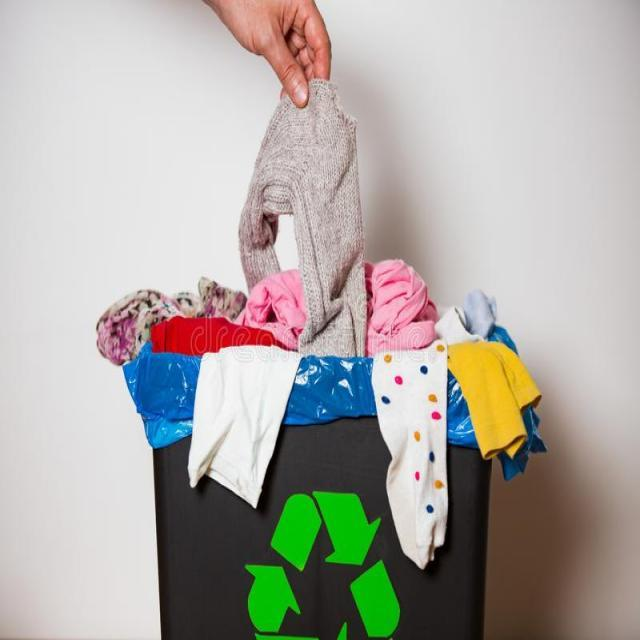clothes: (255, 106, 359, 376)
